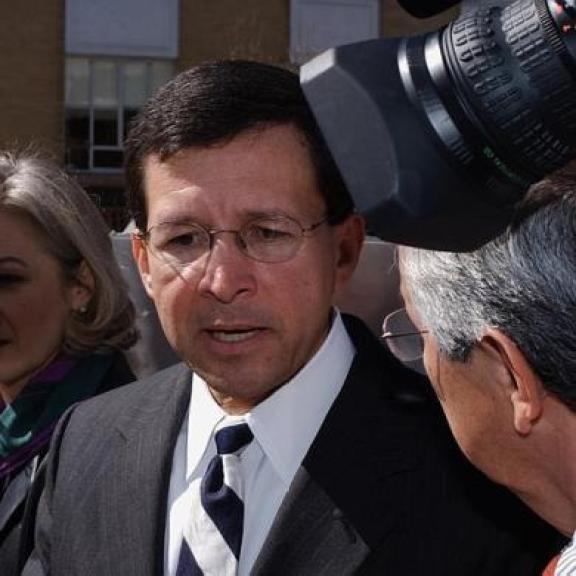face: (122, 125, 378, 393), (0, 198, 95, 388)
